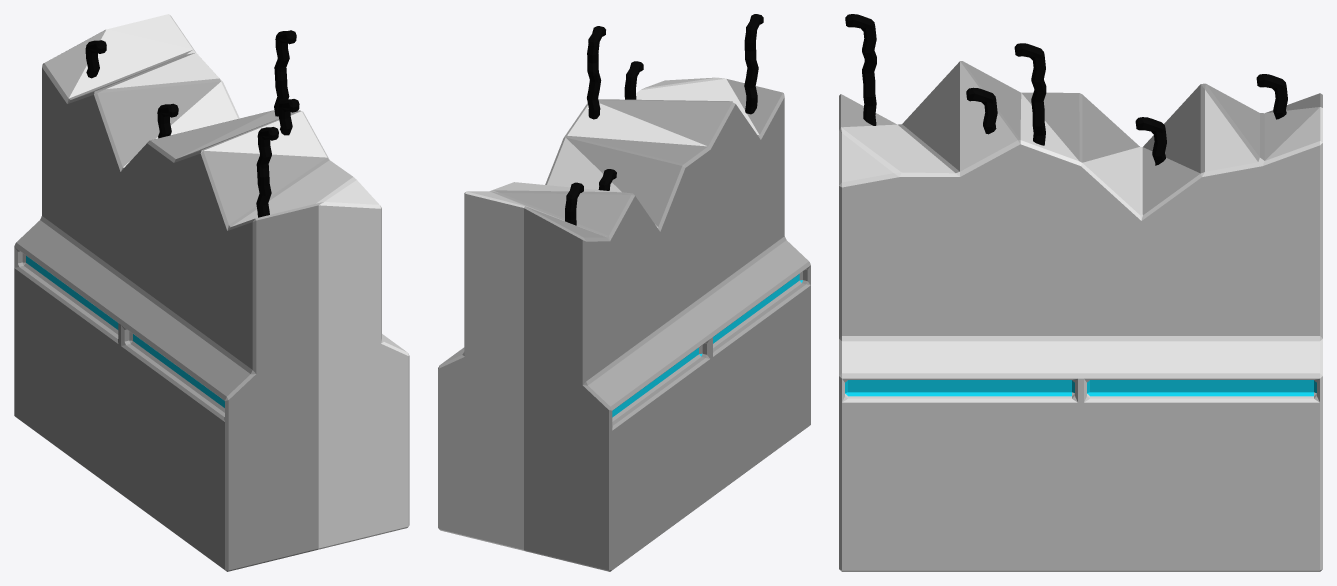
The model's file is WallBrokenTop.fbx.
The picture shows the model from 3 angles, left to right: view 1: azimuth 30°, elevation 25°; view 2: azimuth 150°, elevation 25°; view 3: azimuth 270°, elevation 25°; orthographic projection. The views are drawn at different scales.
Parts seen in each view (by area): view 1: WallBrokenTop, MetalTubeTordu.016, MetalTubeTordu.014, MetalTubeTordu.008, MetalTubeTordu.015, MetalTubeTordu.013; view 2: WallBrokenTop, MetalTubeTordu.016, MetalTubeTordu.014, MetalTubeTordu.008, MetalTubeTordu.015; view 3: WallBrokenTop, MetalTubeTordu.016, MetalTubeTordu.014, MetalTubeTordu.013, MetalTubeTordu.015, MetalTubeTordu.008.
Part boxes in pixels (x1,y1,x2,y2): WallBrokenTop: (14, 14, 409, 571); MetalTubeTordu.016: (256, 127, 278, 217); MetalTubeTordu.014: (274, 30, 296, 116); MetalTubeTordu.008: (85, 40, 106, 78); MetalTubeTordu.015: (278, 99, 299, 135); MetalTubeTordu.013: (157, 103, 178, 138); WallBrokenTop: (438, 77, 810, 571); MetalTubeTordu.016: (744, 14, 763, 114); MetalTubeTordu.014: (587, 26, 605, 119); MetalTubeTordu.008: (565, 182, 583, 225); MetalTubeTordu.015: (624, 61, 643, 99); WallBrokenTop: (839, 61, 1322, 571); MetalTubeTordu.016: (845, 14, 876, 125); MetalTubeTordu.014: (1014, 43, 1046, 145); MetalTubeTordu.013: (1135, 117, 1166, 165); MetalTubeTordu.015: (966, 87, 997, 134); MetalTubeTordu.008: (1256, 74, 1287, 119).
Bounding box in the file's own units: 200 × 462 × 400.
